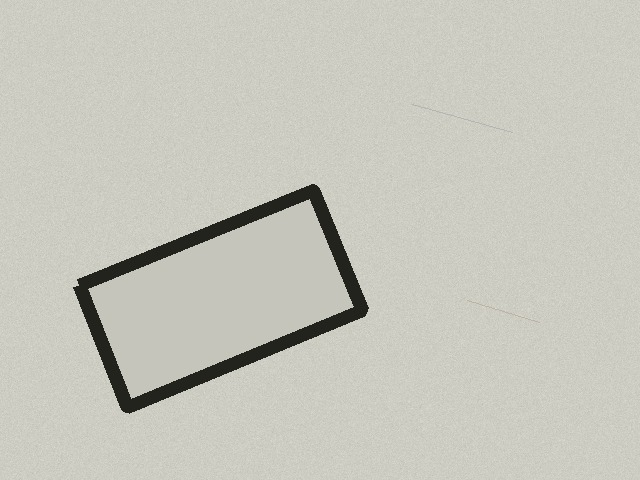parking_area: (79, 190, 362, 407)
